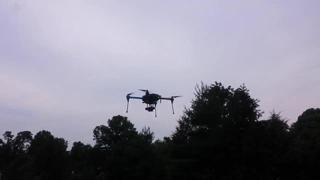UAV: (126, 89, 183, 118)
